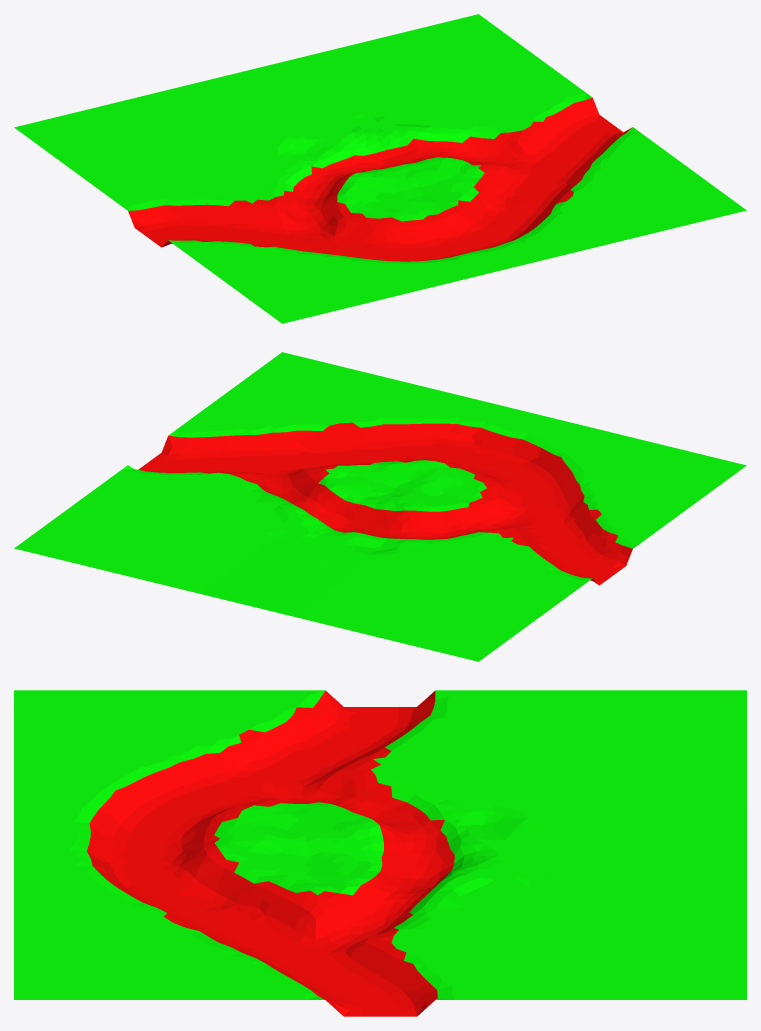
File: RiverBifurcation04.fbx
3 renders of one model, top to bottom at view 1: azimuth 30°, elevation 25°; view 2: azimuth 150°, elevation 25°; view 3: azimuth 270°, elevation 25°, orthographic. The views are drawn at different scales.
Parts seen in each view (by area): view 1: RiverBifurcation04; view 2: RiverBifurcation04; view 3: RiverBifurcation04.
Part boxes in pixels (x1=…): RiverBifurcation04: x1=14, y1=14, x2=746, y2=323; RiverBifurcation04: x1=14, y1=352, x2=746, y2=661; RiverBifurcation04: x1=14, y1=690, x2=746, y2=1016.
Size of the model in its own units: 5009 by 205 by 5009.
